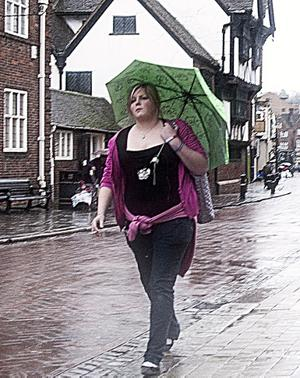person: (91, 83, 208, 377)
